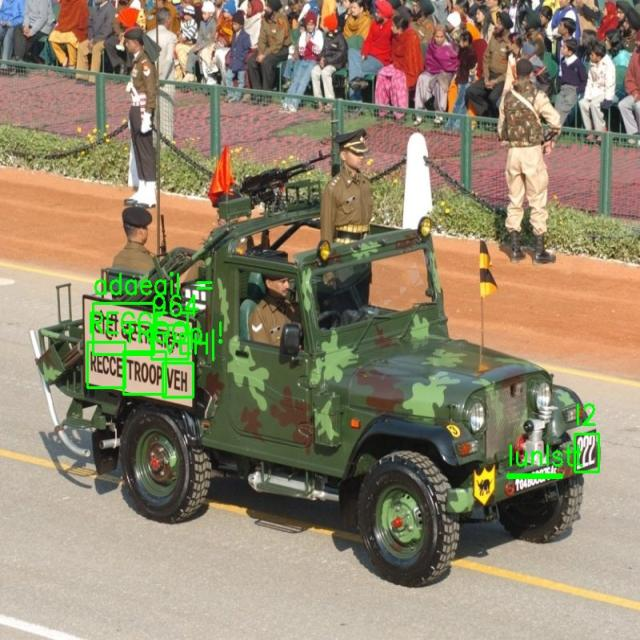military-plate: (507, 463, 562, 496)
unit number: (576, 434, 598, 469)
